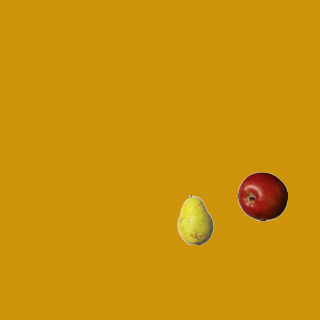Apple Braeburn: (237, 171, 287, 221)
Pear Monster: (170, 194, 220, 244)
